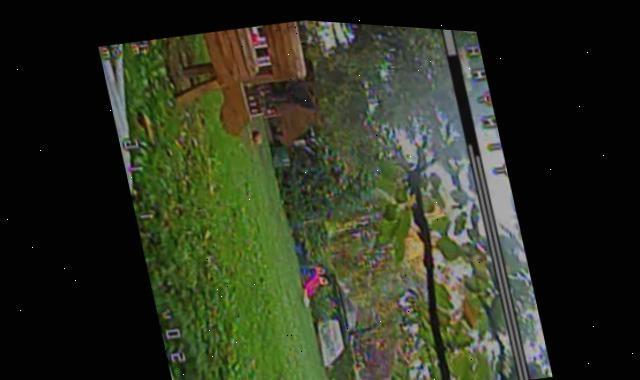horse: (195, 10, 338, 161), (143, 16, 276, 142)
